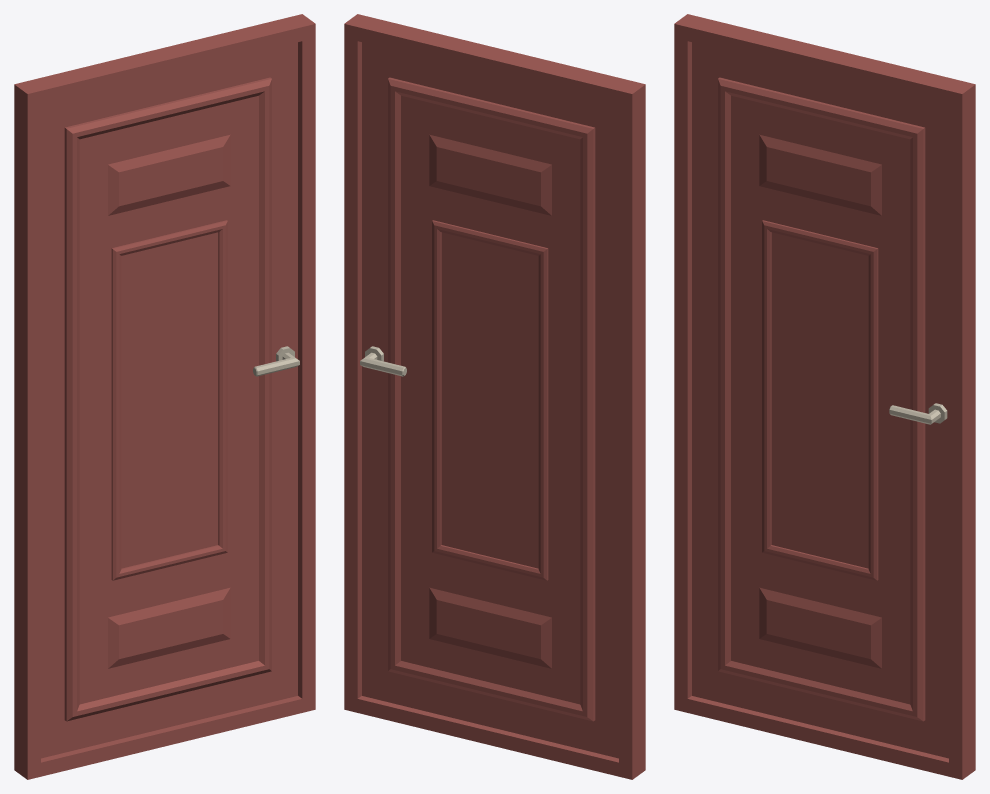
The model's file is Mesh_Door_C10.fbx.
The picture shows the model from 3 angles, left to right: view 1: azimuth 30°, elevation 25°; view 2: azimuth 150°, elevation 25°; view 3: azimuth 330°, elevation 25°; orthographic projection.
Parts seen in each view (by area): view 1: Mesh_Door_C10; view 2: Mesh_Door_C10; view 3: Mesh_Door_C10.
Boxes of the visible parts, box(x1,y1,x2,y2) form: Mesh_Door_C10: box(14, 14, 315, 779); Mesh_Door_C10: box(344, 14, 645, 779); Mesh_Door_C10: box(674, 14, 975, 779).
Bounding box in the file's own units: 0.9 × 2.05 × 0.1524.
